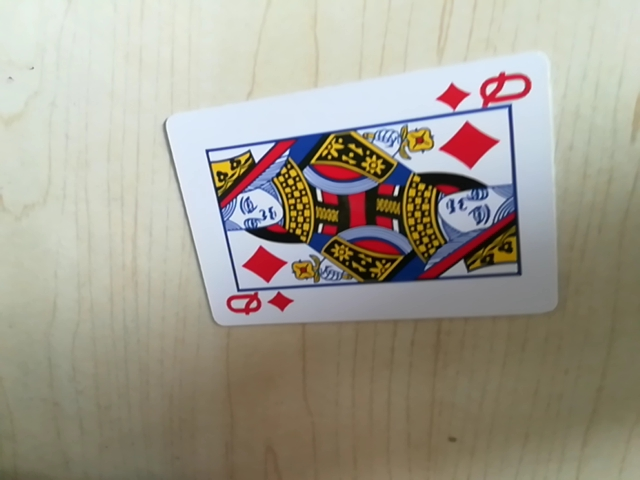fk q: (439, 64, 537, 115), (220, 287, 293, 326)
